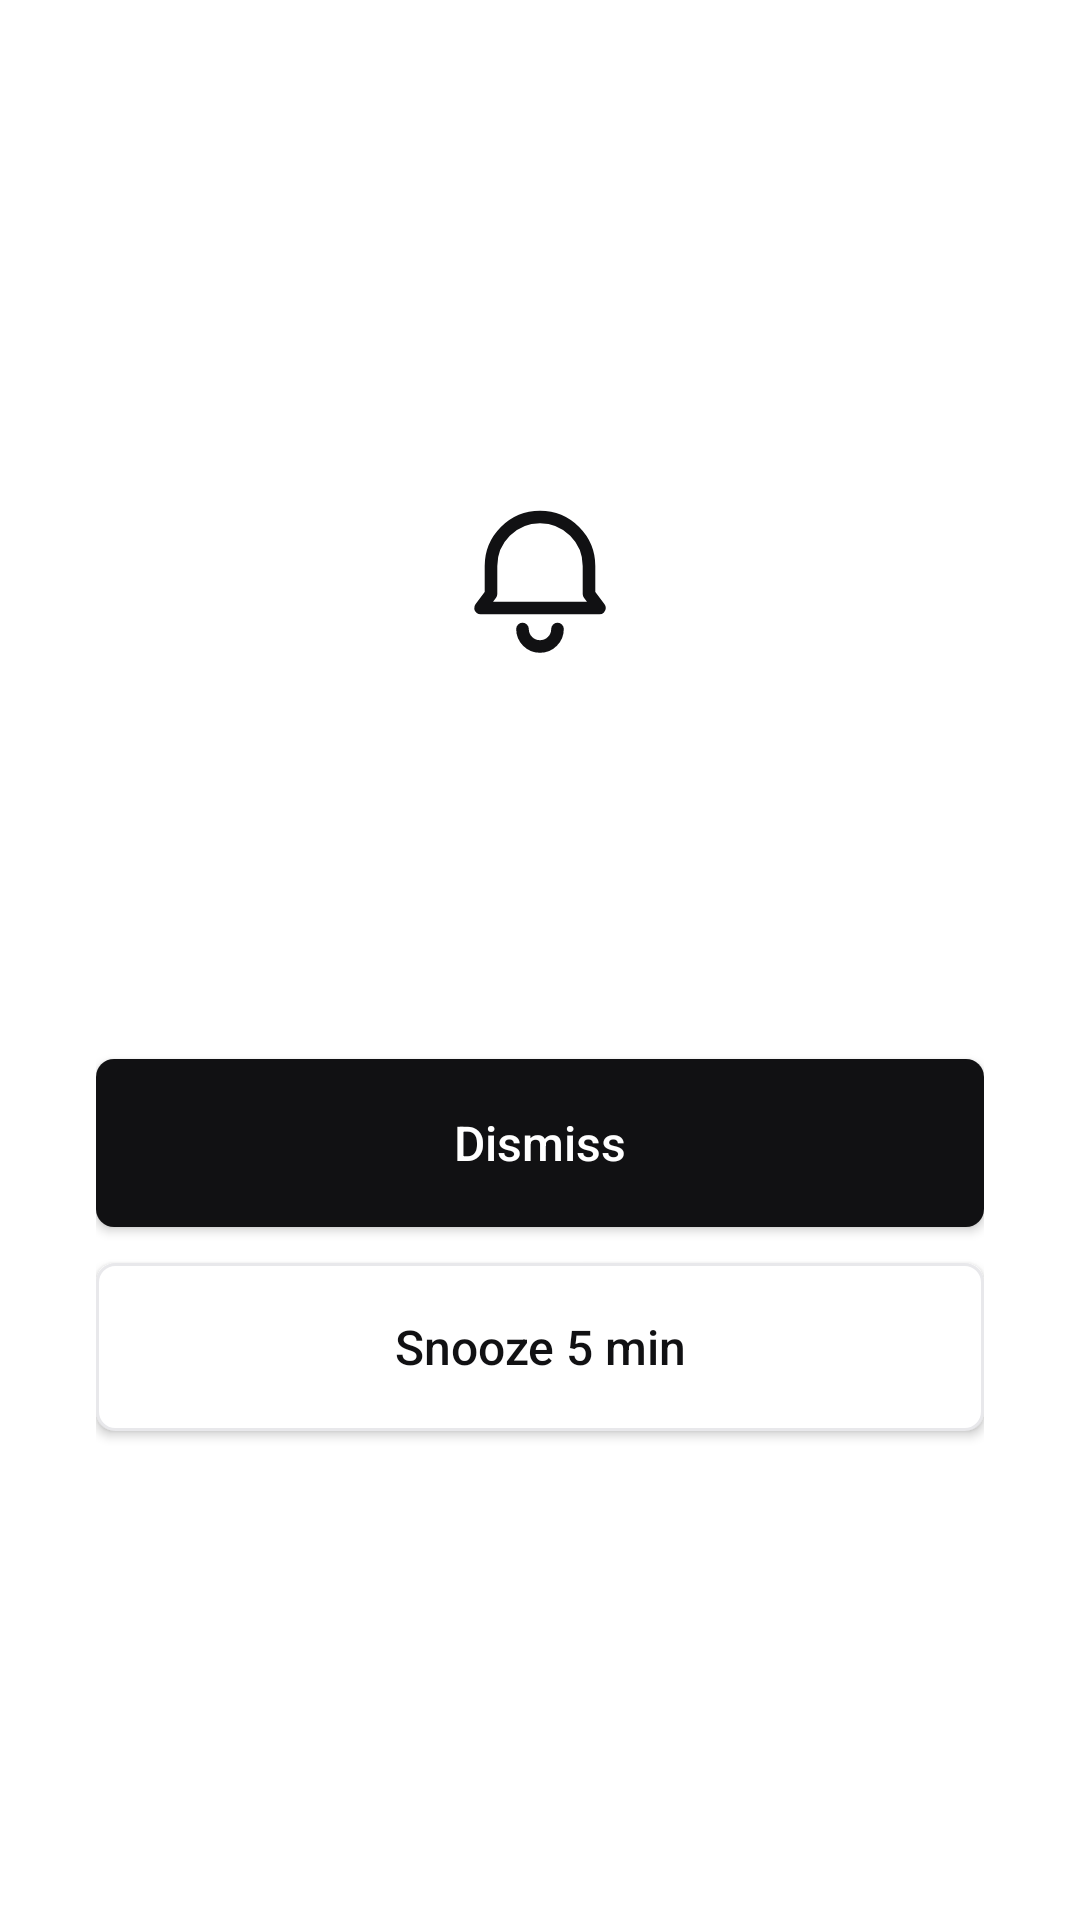

Where icons sit on this 1080 x 1920 app screen, as (x1, y1, x2, y2):
alarm: (474, 510, 606, 653)
